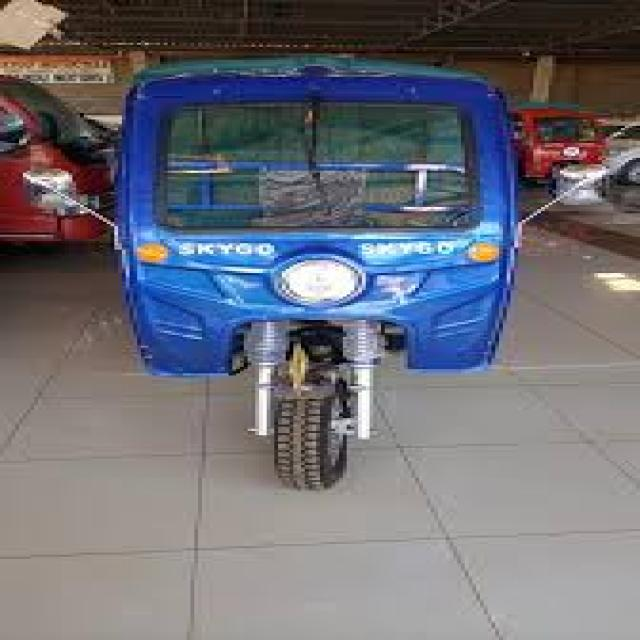tuktuk: (38, 0, 640, 523)
